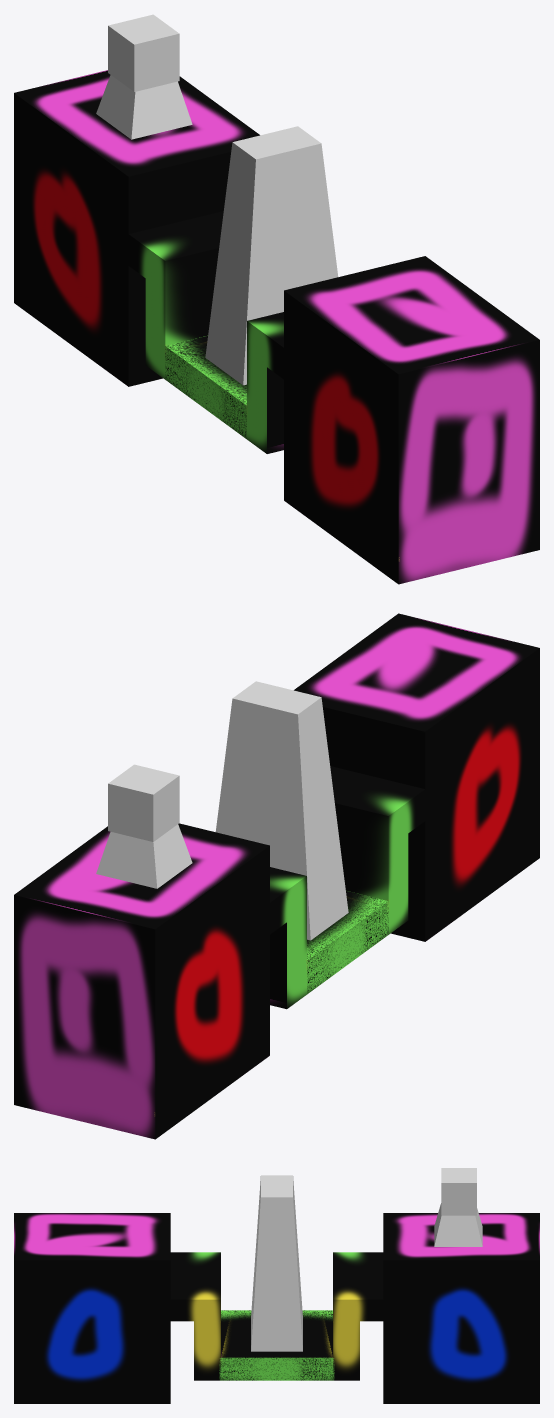
The model's file is chariot1.glb.
3 renders of one model, top to bottom at view 1: azimuth 30°, elevation 25°; view 2: azimuth 150°, elevation 25°; view 3: azimuth 270°, elevation 25°, orthographic. The views are drawn at different scales.
Parts seen in each view (by area): view 1: Cube, Cube.001, Cube.003, Cube.002; view 2: Cube, Cube.001, Cube.003, Cube.002; view 3: Cube, Cube.001, Cube.003, Cube.002.
Part boxes in pixels (x1,y1,x2,y2): Cube: (14, 70, 539, 584); Cube.001: (205, 126, 338, 385); Cube.003: (108, 14, 179, 91); Cube.002: (96, 75, 192, 139); Cube: (14, 613, 539, 1139); Cube.001: (215, 681, 348, 940); Cube.003: (108, 764, 179, 841); Cube.002: (96, 824, 192, 888); Cube: (14, 1213, 539, 1403); Cube.001: (251, 1175, 302, 1351); Cube.003: (441, 1168, 476, 1215); Cube.002: (434, 1203, 482, 1246).
Size of the model in its own units: 2 by 4.04 by 9.42.
Materials: 1 (1 with a texture image).
